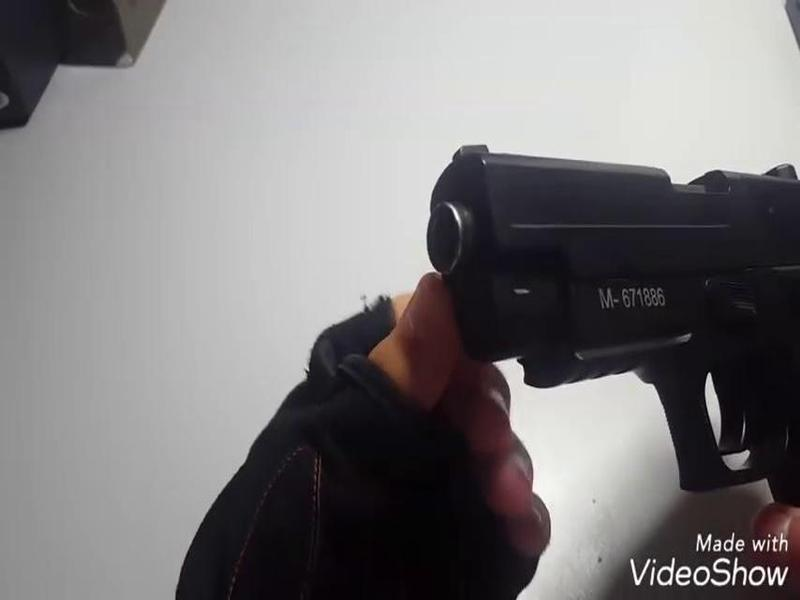Pistola: (407, 117, 800, 505)
